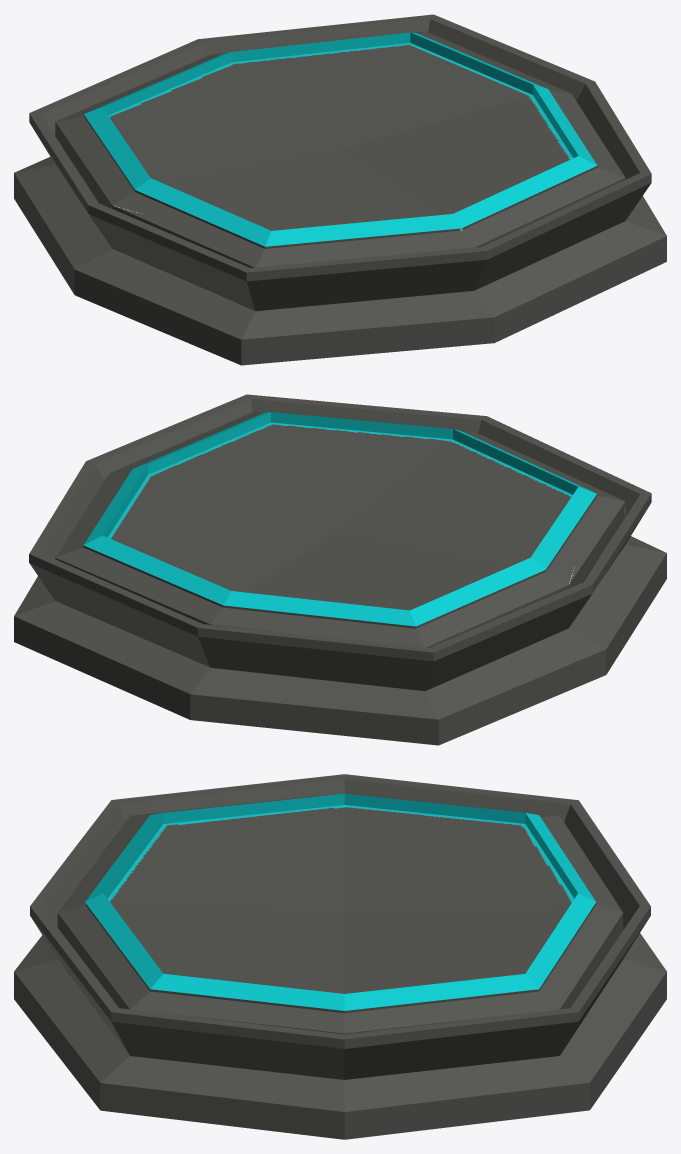
Rendered from base_character_select.fbx.
The picture shows the model from 3 angles, top to bottom: view 1: azimuth 30°, elevation 25°; view 2: azimuth 150°, elevation 25°; view 3: azimuth 270°, elevation 25°; orthographic projection. The views are drawn at different scales.
Parts seen in each view (by area): view 1: character_platform; view 2: character_platform; view 3: character_platform.
Part boxes in pixels (x1,y1,x2,y2): character_platform: [14, 14, 666, 365]; character_platform: [14, 394, 666, 745]; character_platform: [14, 774, 666, 1139].
Size of the model in its own units: 447 by 79.05 by 441.
1 material, 1 textured.
